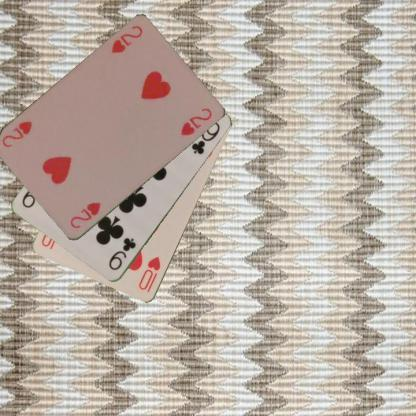10h: (136, 254, 162, 294)
2h: (108, 23, 144, 55), (67, 200, 102, 231)
9c: (106, 235, 138, 272)
